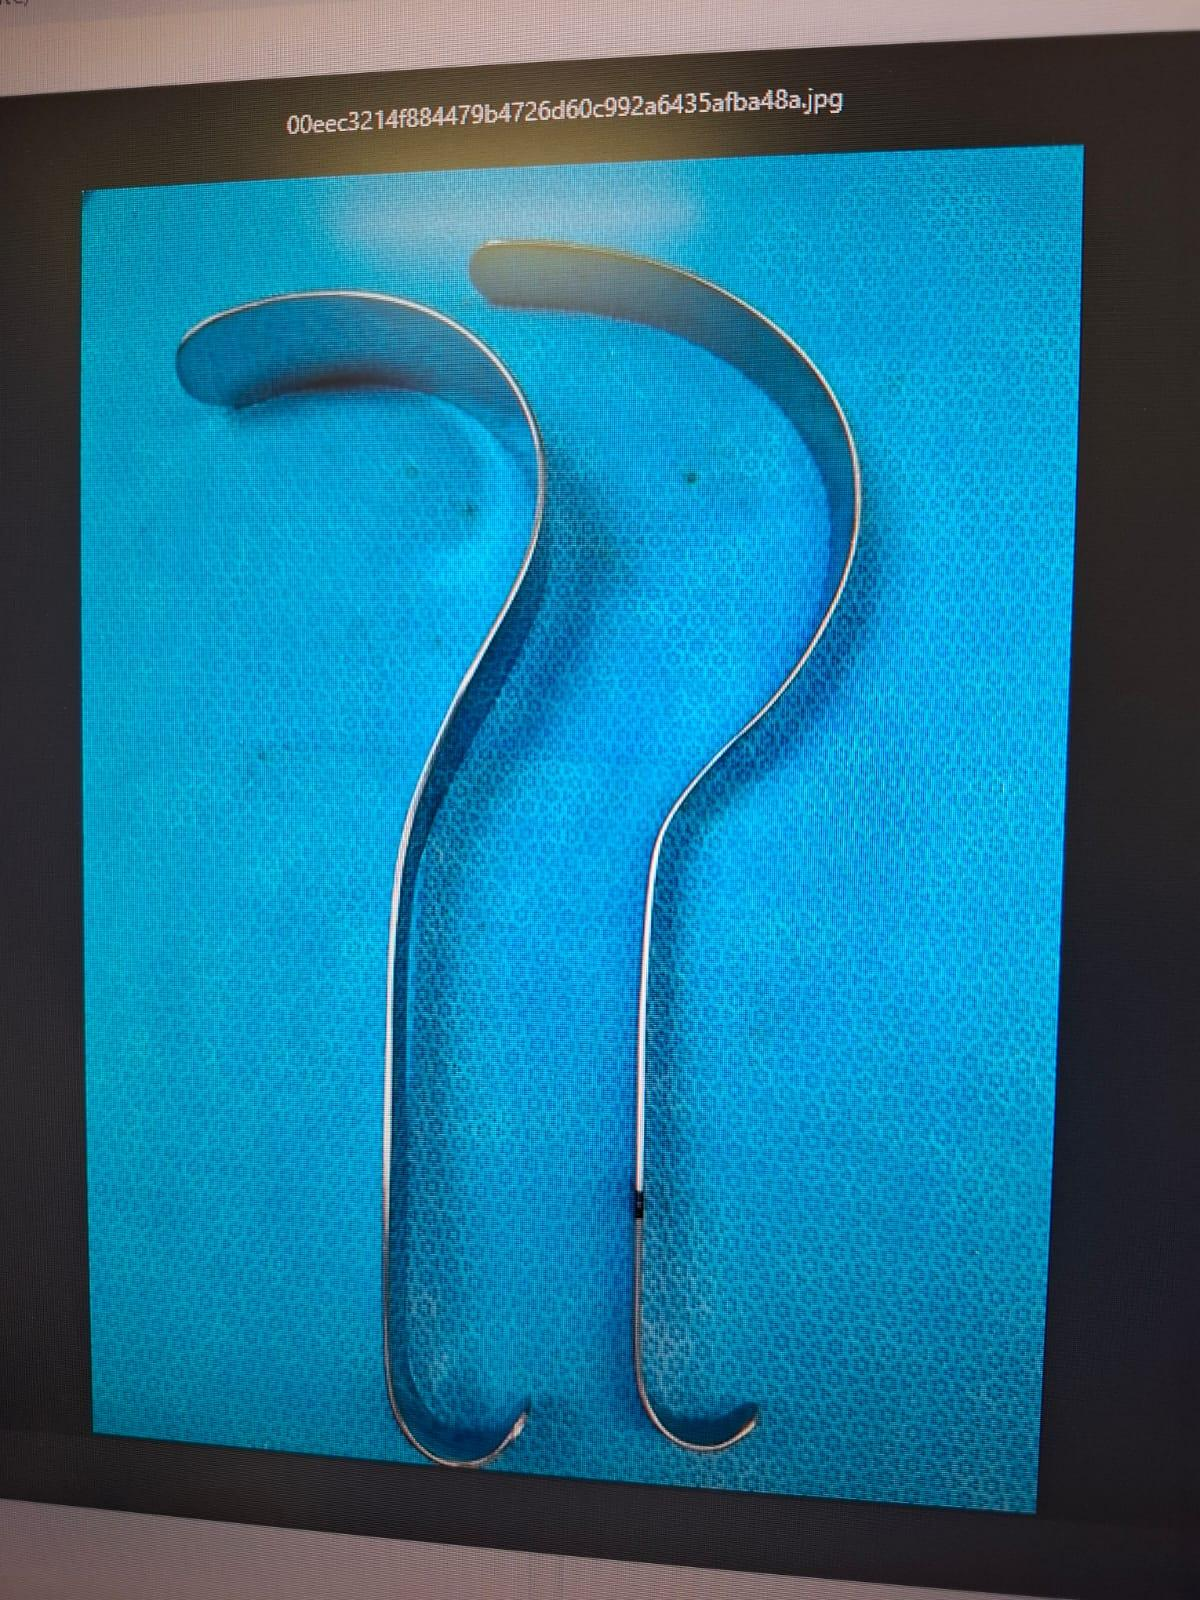Deaver Retractor: (455, 220, 890, 1468), (165, 275, 580, 1480)
